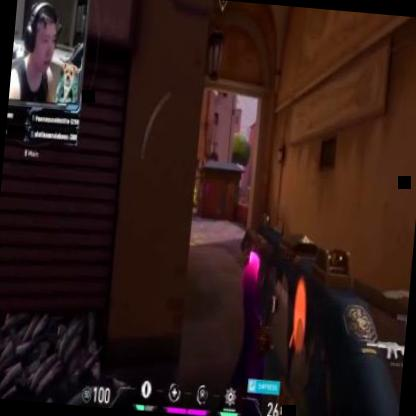enemy: (191, 184, 197, 205)
enemy_head: (194, 185, 197, 190)
